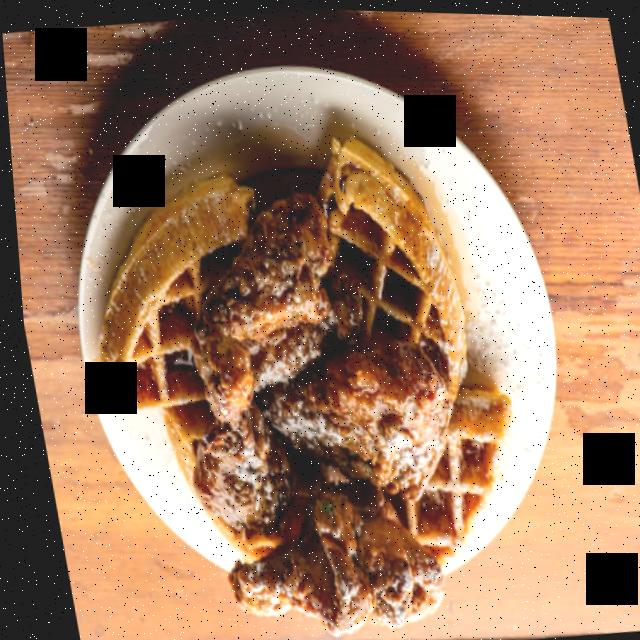Frango: (132, 177, 497, 640)
